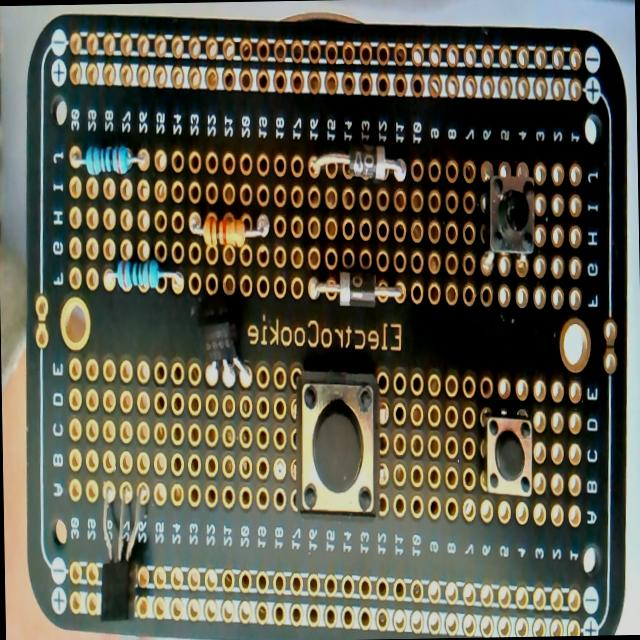diode: (312, 145, 408, 186), (310, 271, 402, 309)
resistor: (188, 212, 272, 249), (106, 258, 186, 295), (75, 144, 145, 176)
switch: (296, 371, 380, 518), (481, 409, 532, 498), (486, 168, 536, 256)
transistor: (98, 486, 147, 626), (194, 288, 250, 388)
